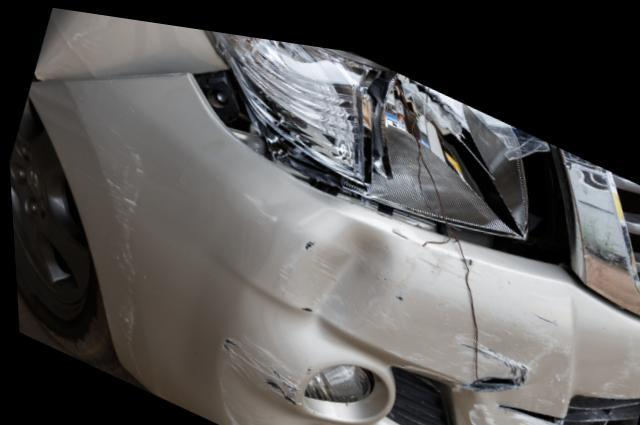crack: (495, 389, 559, 411), (470, 363, 516, 374)
dent: (269, 204, 392, 345), (43, 10, 209, 80), (214, 357, 361, 425)
lamp broken: (204, 24, 546, 228)
scratch: (386, 226, 570, 425), (92, 116, 141, 364), (218, 326, 296, 398), (589, 317, 640, 380)
